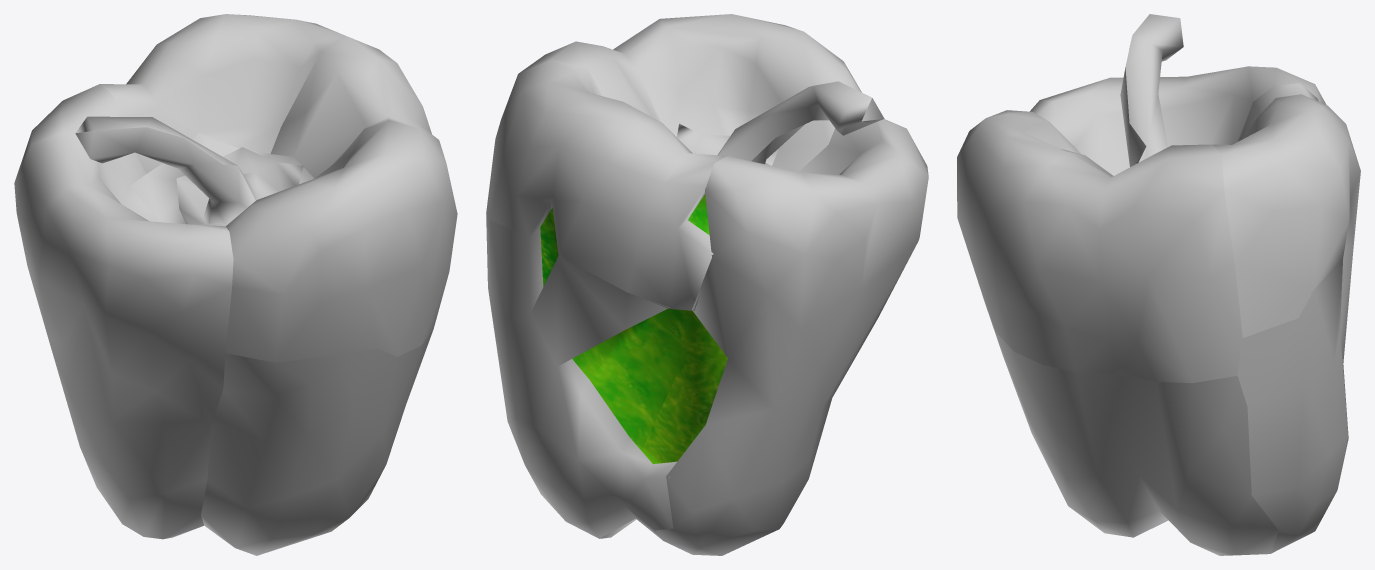
The model's file is pumpkin_2.fbx.
The picture shows the model from 3 angles, left to right: view 1: azimuth 30°, elevation 25°; view 2: azimuth 150°, elevation 25°; view 3: azimuth 270°, elevation 25°; orthographic projection. The views are drawn at different scales.
Parts seen in each view (by area): view 1: mesh_536; view 2: mesh_536; view 3: mesh_536.
Part boxes in pixels (x1,y1,x2,y2): mesh_536: (14, 14, 457, 555); mesh_536: (486, 14, 928, 555); mesh_536: (957, 14, 1360, 555).
Size of the model in its own units: 45.96 by 51.98 by 43.55.
